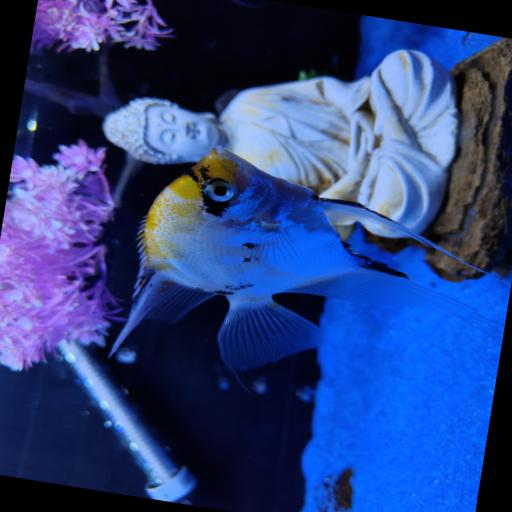Fish: (110, 146, 502, 369)
